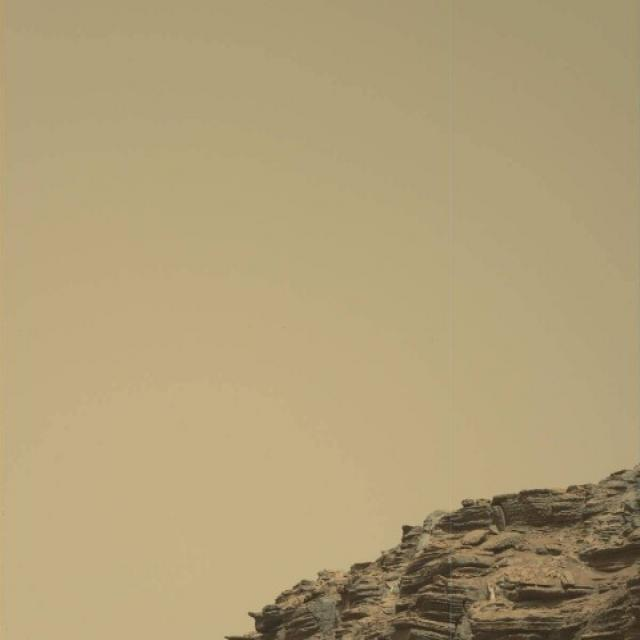rock: (221, 460, 640, 640)
